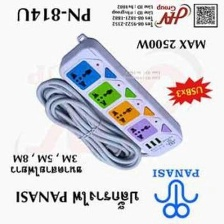three_eye_plug: (56, 35, 185, 160)
